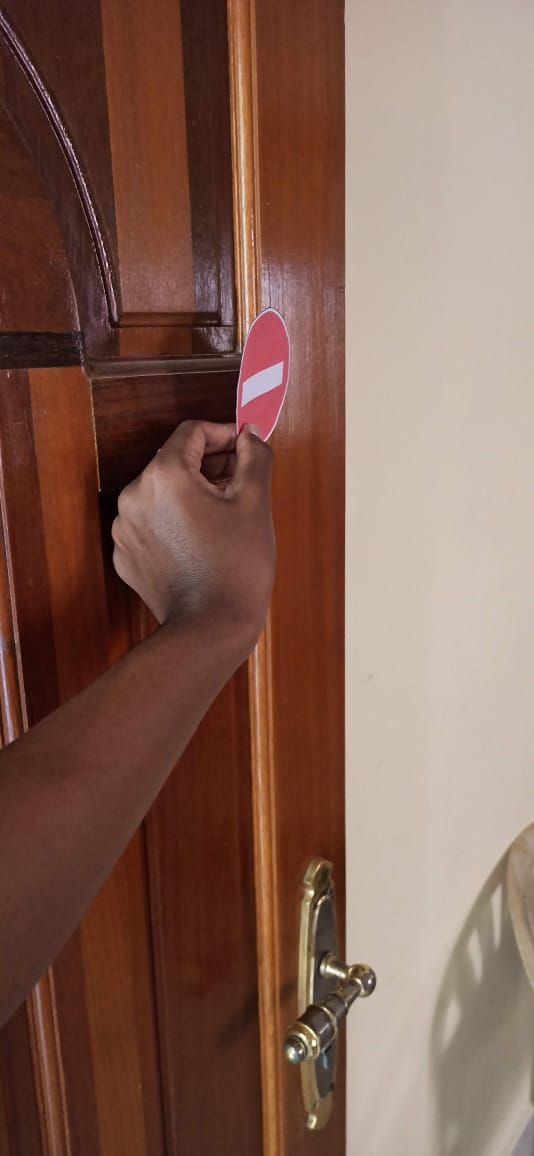NO ENTRY: (202, 284, 311, 454)
